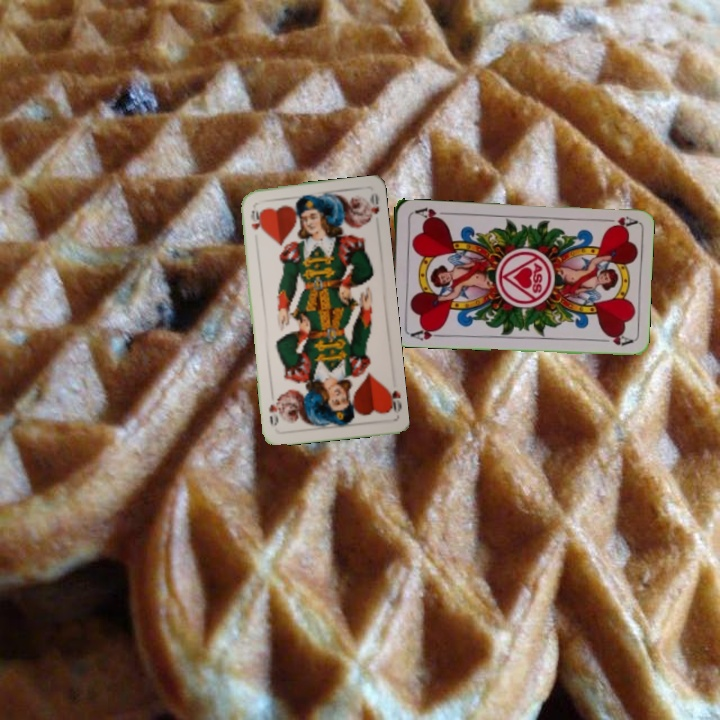HA: (404, 323, 444, 343), (598, 212, 638, 231)
HO: (382, 383, 404, 416), (246, 204, 264, 233)
